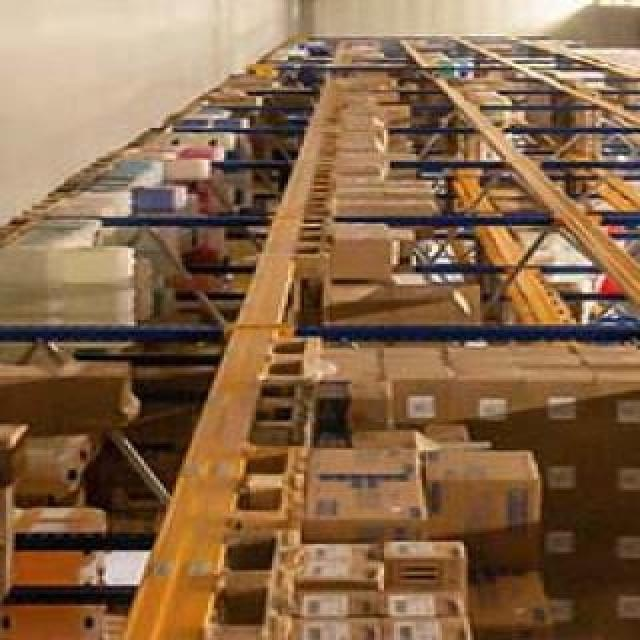fluorescent tube: (628, 0, 640, 10)
